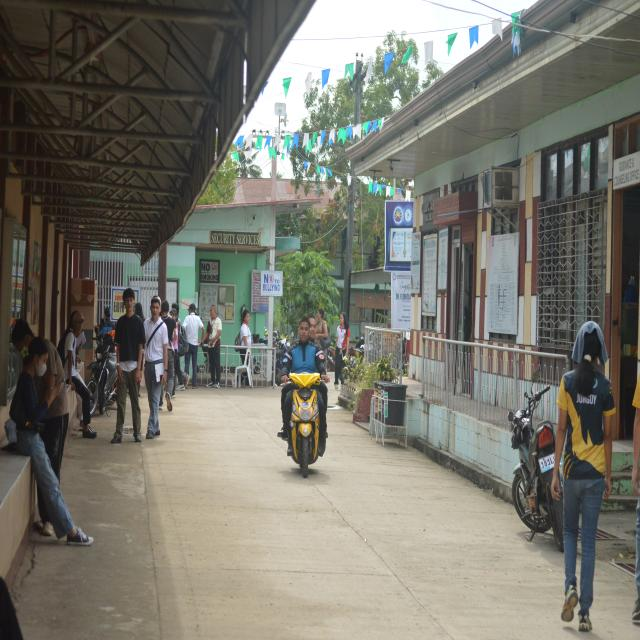person: (552, 322, 615, 631), (10, 338, 93, 545), (279, 317, 329, 455), (112, 288, 145, 443), (34, 339, 69, 480), (64, 312, 97, 438), (144, 296, 168, 439), (183, 304, 204, 388), (161, 300, 176, 411), (203, 305, 222, 388), (334, 312, 350, 389), (239, 309, 251, 364)
